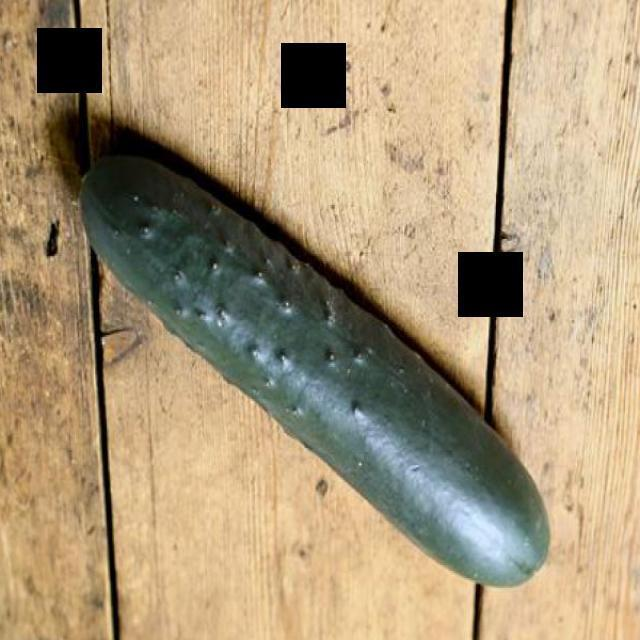cucumber: (73, 141, 555, 592)
